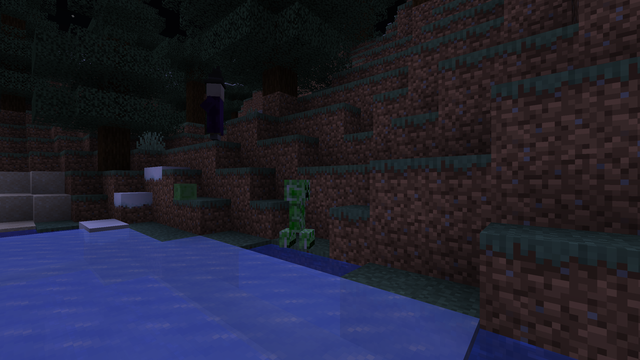creepers: (280, 176, 314, 249)
slimes: (173, 183, 197, 200)
sorcieres: (202, 79, 227, 141)
